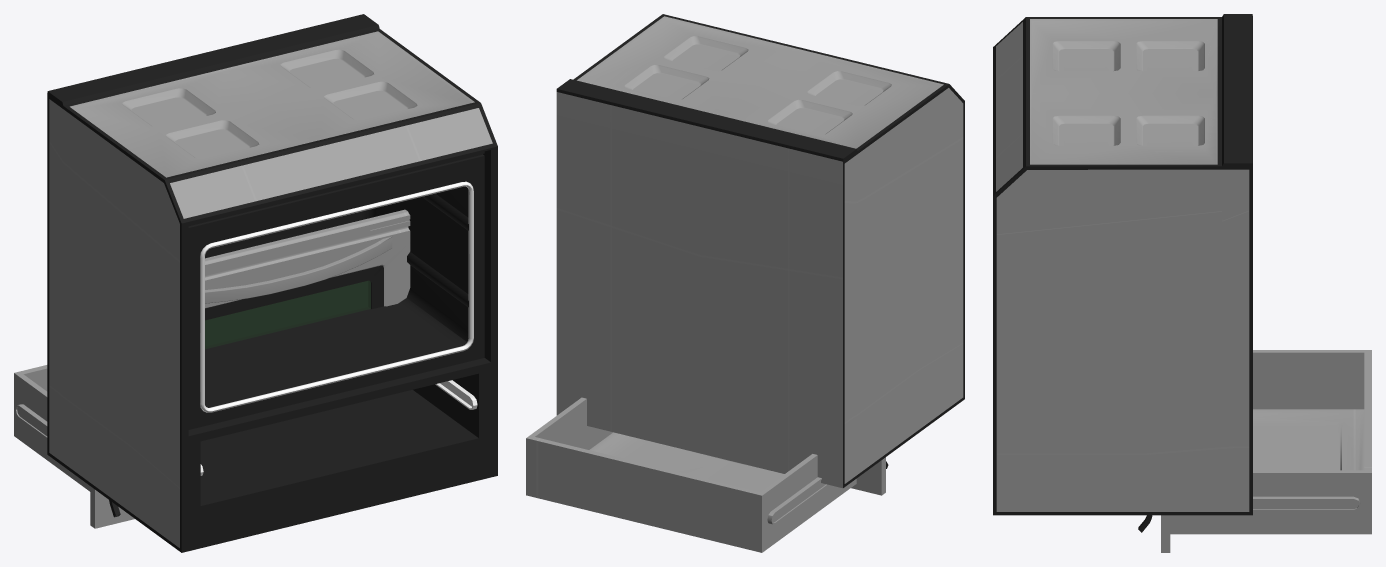
Rendered from oven_FP1.obj.
3 views of the same model, side by side, from view 1: azimuth 30°, elevation 25°; view 2: azimuth 150°, elevation 25°; view 3: azimuth 270°, elevation 25° (orthographic). The views are drawn at different scales.
Parts seen in each view (by area): view 1: oven_FP1_e2968b02, oven_FP1_door_049ab45b, oven_FP1_drawer_31534942; view 2: oven_FP1_e2968b02, oven_FP1_drawer_31534942; view 3: oven_FP1_e2968b02, oven_FP1_drawer_31534942.
Boxes of the visible parts, <box> form: oven_FP1_e2968b02: <box>47,14,497,552</box>; oven_FP1_door_049ab45b: <box>109,209,410,517</box>; oven_FP1_drawer_31534942: <box>14,365,134,528</box>; oven_FP1_e2968b02: <box>556,14,964,488</box>; oven_FP1_drawer_31534942: <box>526,397,885,552</box>; oven_FP1_e2968b02: <box>993,14,1252,515</box>; oven_FP1_drawer_31534942: <box>1161,350,1371,552</box>.
Bounding box in the file's own units: 0.85 × 1.03 × 0.9108.
